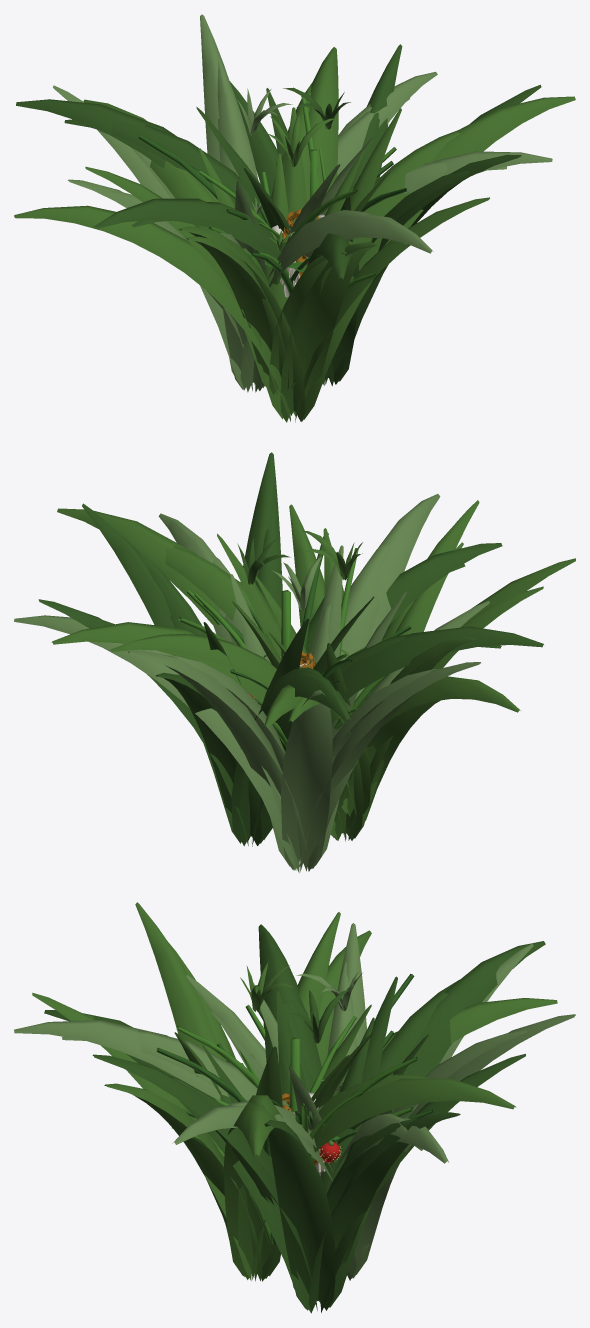
File: CropLod_r2.glb
3 views of the same model, one above another, from view 1: azimuth 30°, elevation 25°; view 2: azimuth 150°, elevation 25°; view 3: azimuth 270°, elevation 25° (orthographic). The views are drawn at different scales.
Visible parts, largest first — view 1: Pineapple_Stage5_leaf_green, Pineapple_Stage5_leaf_dark, Pineapple_Stage5_leaf_glaucous, Pineapple_Stage3_leaf_green, Pineapple_Stage3_leaf_dark, Pineapple_Stage3_leaf_glaucous, Onion_Stage5_leaf_green, Onion_Stage5_leaf_deep; view 2: Pineapple_Stage5_leaf_glaucous, Pineapple_Stage5_leaf_dark, Pineapple_Stage5_leaf_green, Pineapple_Stage3_leaf_green, Pineapple_Stage3_leaf_glaucous, Pineapple_Stage3_leaf_dark, Onion_Stage5_leaf_green, Onion_Stage5_leaf_deep; view 3: Pineapple_Stage5_leaf_dark, Pineapple_Stage5_leaf_green, Pineapple_Stage5_leaf_glaucous, Pineapple_Stage3_leaf_dark, Pineapple_Stage3_leaf_glaucous, Pineapple_Stage3_leaf_green, Onion_Stage5_leaf_green, Onion_Stage5_leaf_deep.
Part boxes in pixels (x1,y1,x2,y2): Pineapple_Stage5_leaf_green: (14,47,575,422); Pineapple_Stage5_leaf_dark: (16,44,541,386); Pineapple_Stage5_leaf_glaucous: (53,14,552,392); Pineapple_Stage3_leaf_green: (85,82,460,395); Pineapple_Stage3_leaf_dark: (64,88,484,354); Pineapple_Stage3_leaf_glaucous: (110,53,506,346); Onion_Stage5_leaf_green: (198,92,396,287); Onion_Stage5_leaf_deep: (138,134,406,294); Pineapple_Stage5_leaf_glaucous: (14,494,489,873); Pineapple_Stage5_leaf_dark: (38,452,543,846); Pineapple_Stage5_leaf_green: (51,500,575,841); Pineapple_Stage3_leaf_green: (110,528,543,816); Pineapple_Stage3_leaf_glaucous: (159,544,437,799); Pineapple_Stage3_leaf_dark: (99,505,501,807); Onion_Stage5_leaf_green: (178,548,388,746); Onion_Stage5_leaf_deep: (203,533,411,689); Pineapple_Stage5_leaf_dark: (44,924,545,1313); Pineapple_Stage5_leaf_green: (32,902,557,1281); Pineapple_Stage5_leaf_glaucous: (14,923,575,1280); Pineapple_Stage3_leaf_dark: (169,980,458,1271); Pineapple_Stage3_leaf_glaucous: (62,962,526,1175); Pineapple_Stage3_leaf_green: (86,912,433,1148); Onion_Stage5_leaf_green: (171,1004,418,1243); Onion_Stage5_leaf_deep: (156,974,433,1243).
Size of the model in its own units: 1.16 by 0.6461 by 1.06.
